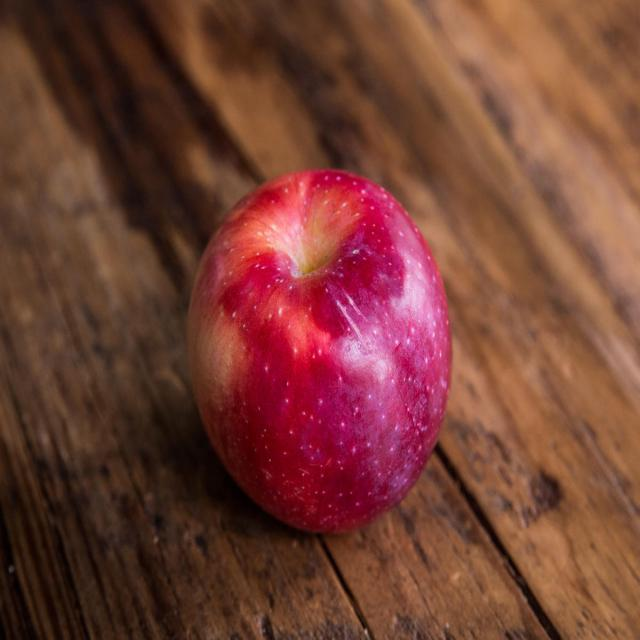apple: (186, 162, 463, 548)
